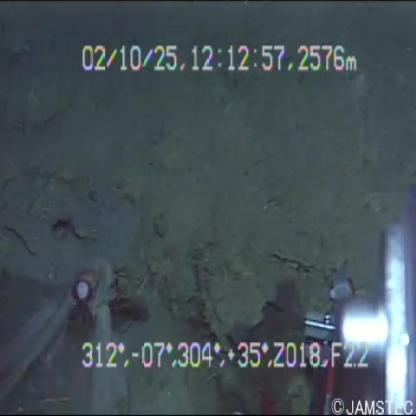Rov: (300, 157, 416, 416)
Rác: (1, 248, 148, 416)
